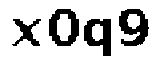0: (48, 5, 78, 50)
9: (117, 6, 151, 54)
q: (81, 16, 114, 60)
x: (12, 18, 43, 49)
